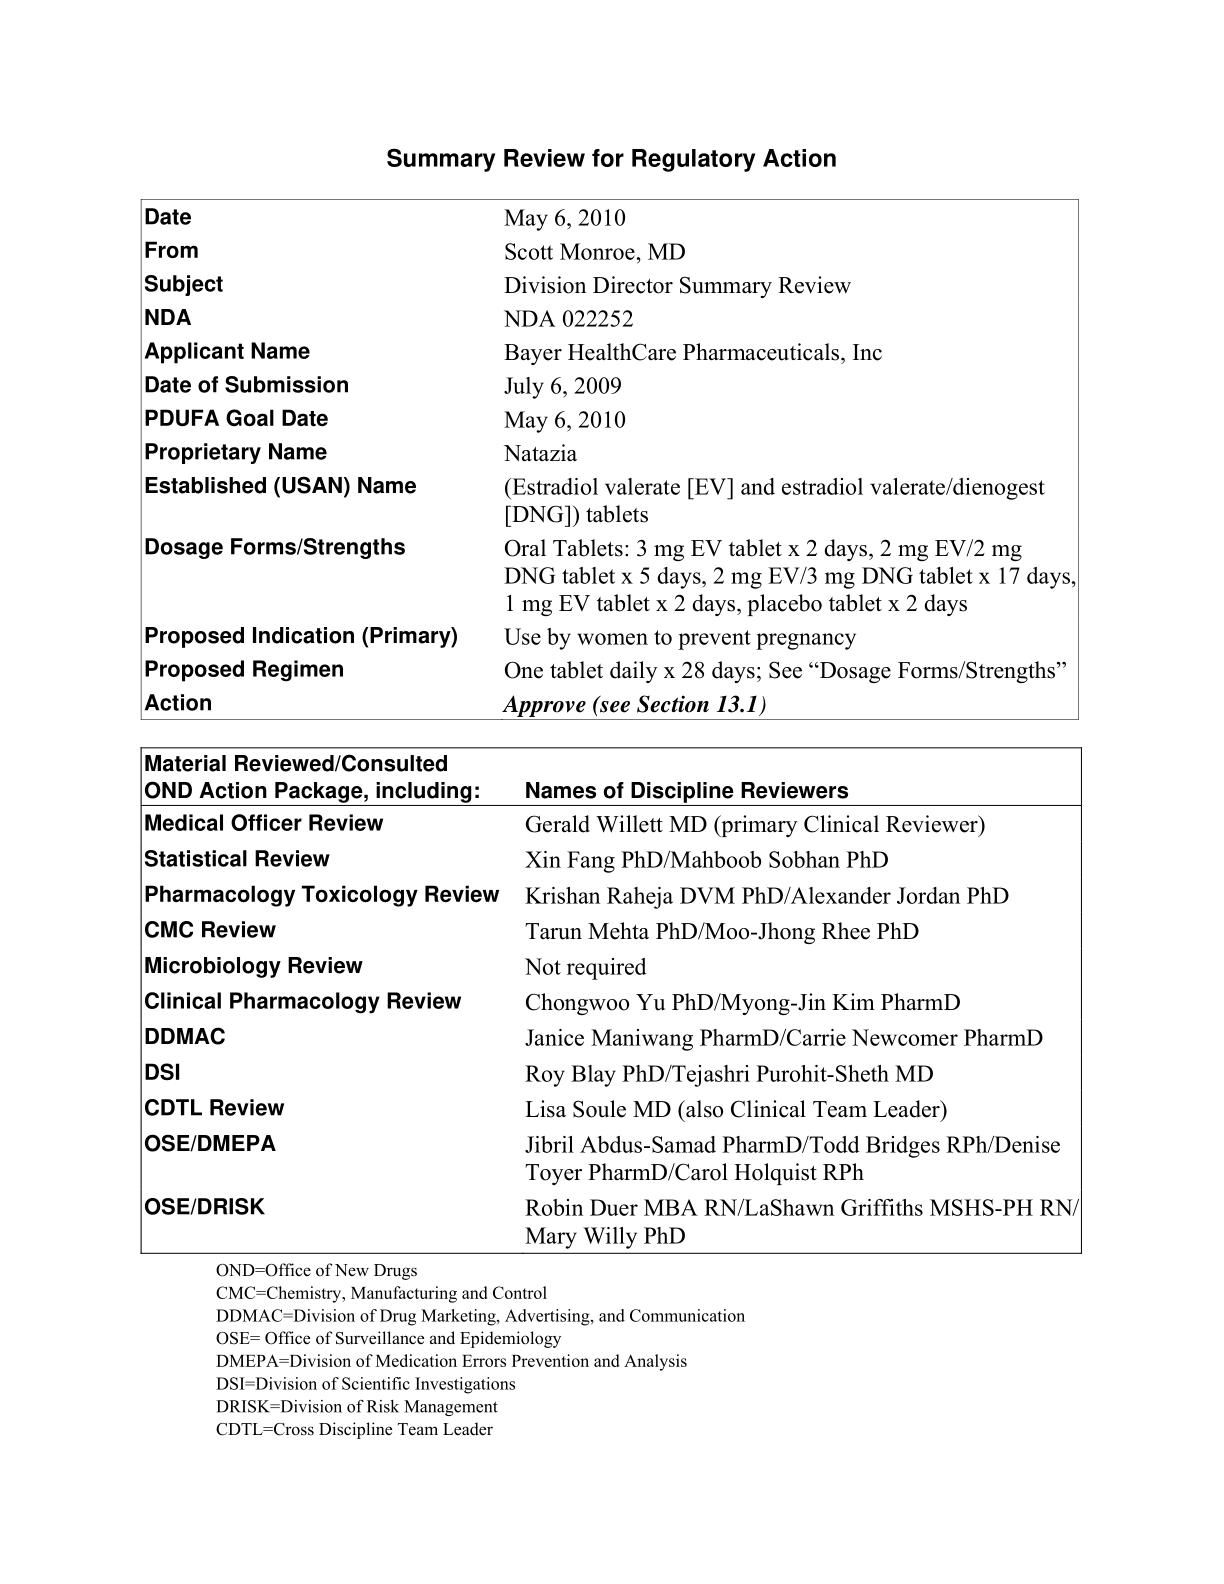partial_lined: (140, 198, 1080, 721), (140, 746, 1083, 1255)
